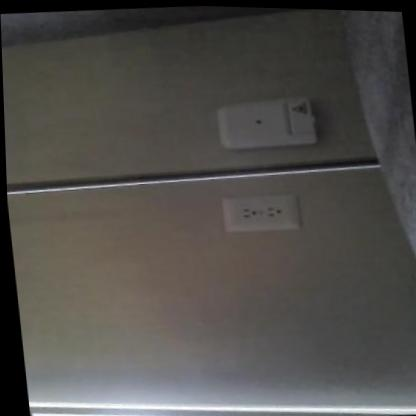OUTLET: (222, 192, 300, 234)
